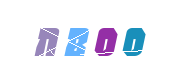B: (40, 0, 120, 80)
N: (37, 0, 117, 80)
O: (49, 0, 129, 80), (94, 0, 174, 80)
